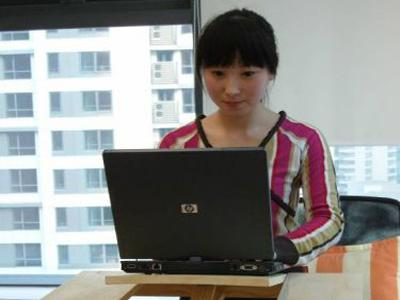person: (159, 9, 345, 268)
